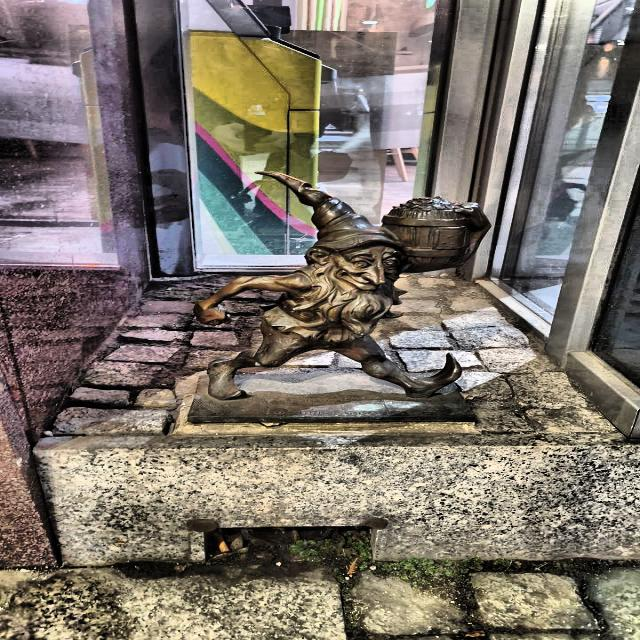Leprykonus: (169, 166, 508, 406)
